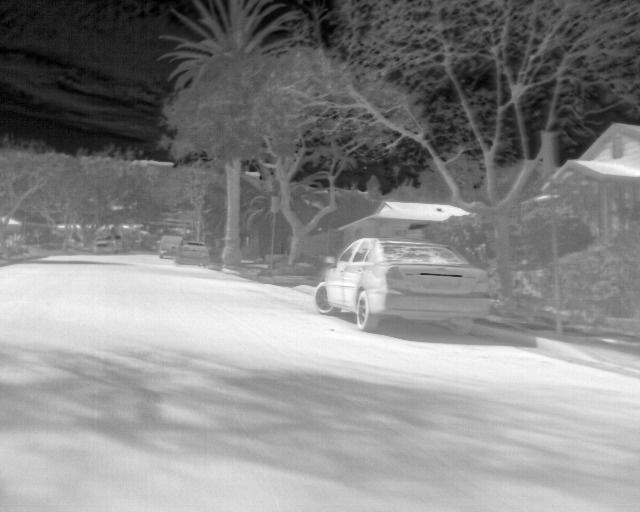car: (313, 236, 493, 332), (173, 240, 212, 267), (94, 235, 125, 256), (155, 233, 179, 259)
